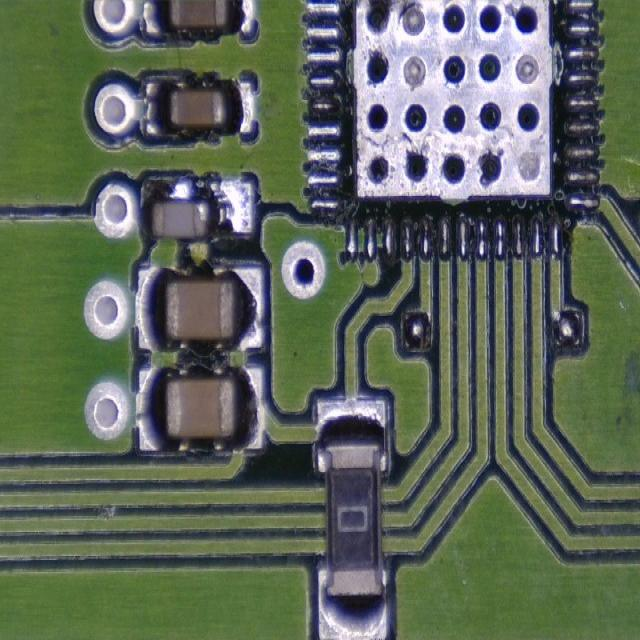Incorrect_installation: (139, 178, 254, 239)
Short_circuit: (139, 177, 254, 239)
